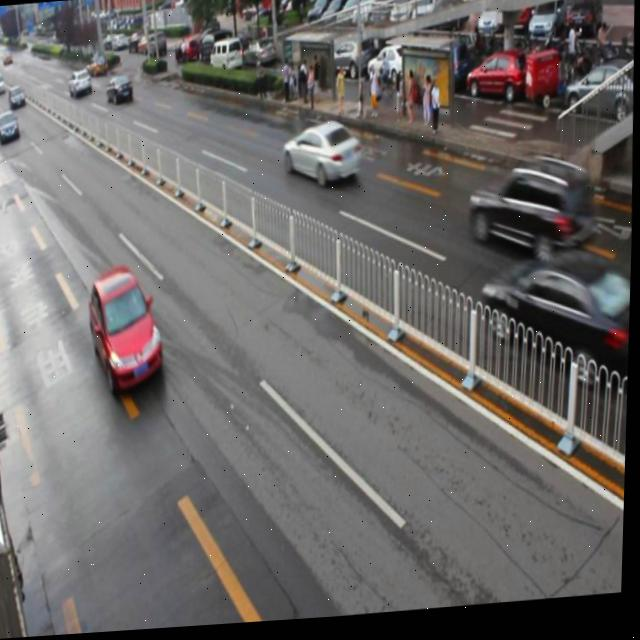car: (478, 253, 633, 390), (465, 164, 596, 269), (88, 267, 166, 393), (281, 121, 361, 194), (107, 78, 136, 105)
